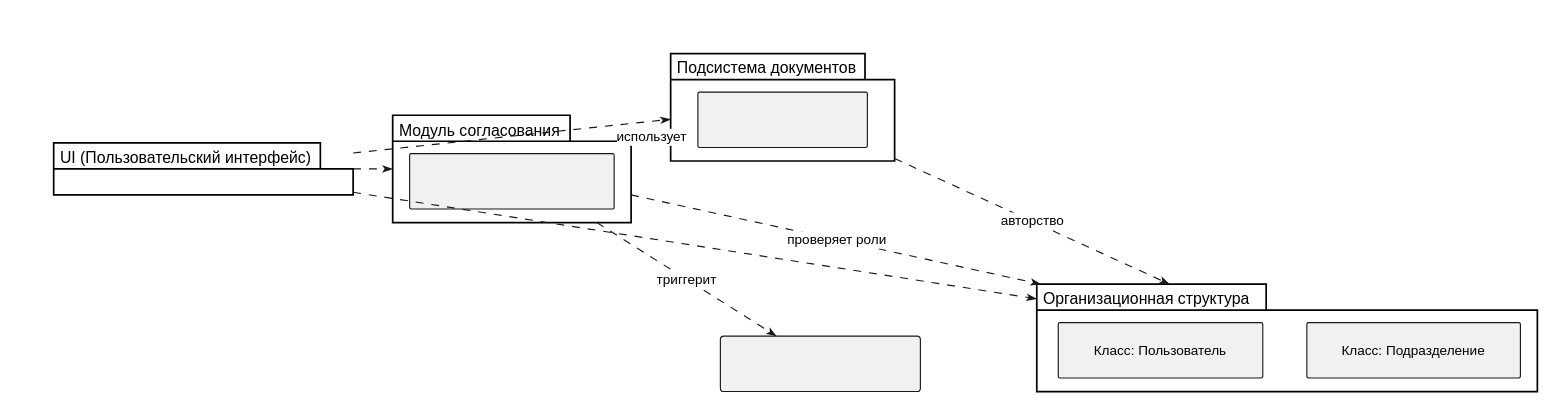
Image size: 1557x411. Some labels were removed from this diagram. Each missing label, with the centre of its shape:
«external» Сервис уведомлений: the point at 819,363
Класс: Документ: the point at 782,119
Класс: Согласование: the point at 511,181
